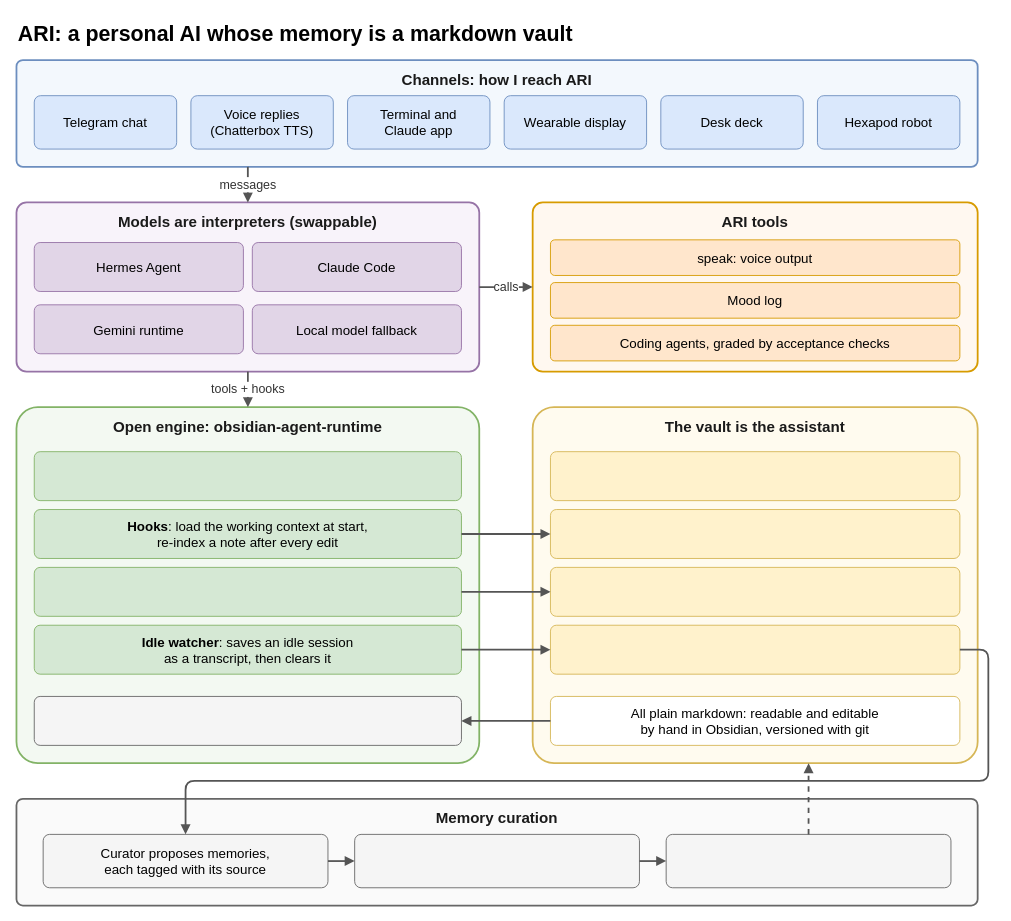
Some shapes in this 1011 by 921 pixel diagram are drawn without their labels. The shapes that lost their labels are listed below. From the top down, each one's centre as x and y in pixels, then its label:
At (x=247, y=476): "vault_search MCP server: full-text search over every note".
At (x=755, y=476): "Rules and personality (README, SOUL)".
At (x=755, y=533): "STATE: current task, journal, mistakes".
At (x=247, y=591): "Subagents : vault-recall (read), vault-memory (file new facts)".
At (x=755, y=591): "PROJECTS, REFERENCE and SKILLS notes".
At (x=755, y=649): "Raw transcripts (staging only)".
At (x=247, y=720): "Search index : SQLite FTS5 + BM25, kept in a cache outside the vault".
At (x=496, y=860): "I approve or reject each one".
At (x=808, y=860): "Approved facts are filed into the vault".
